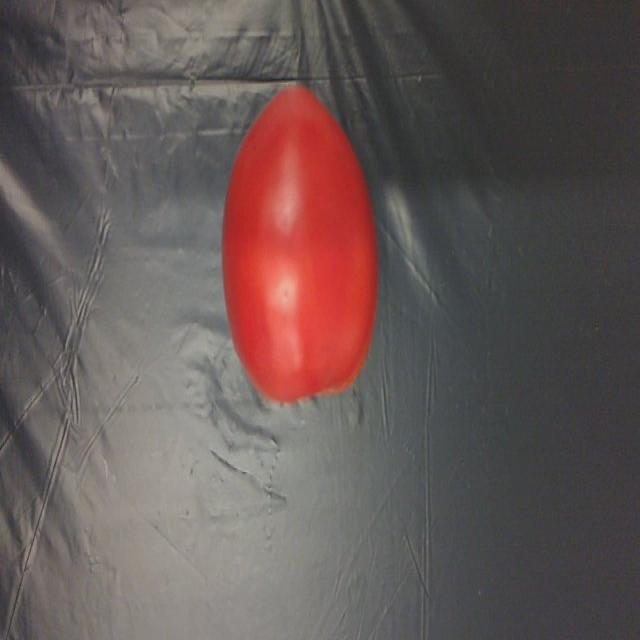kirmizi: (218, 74, 372, 410)
